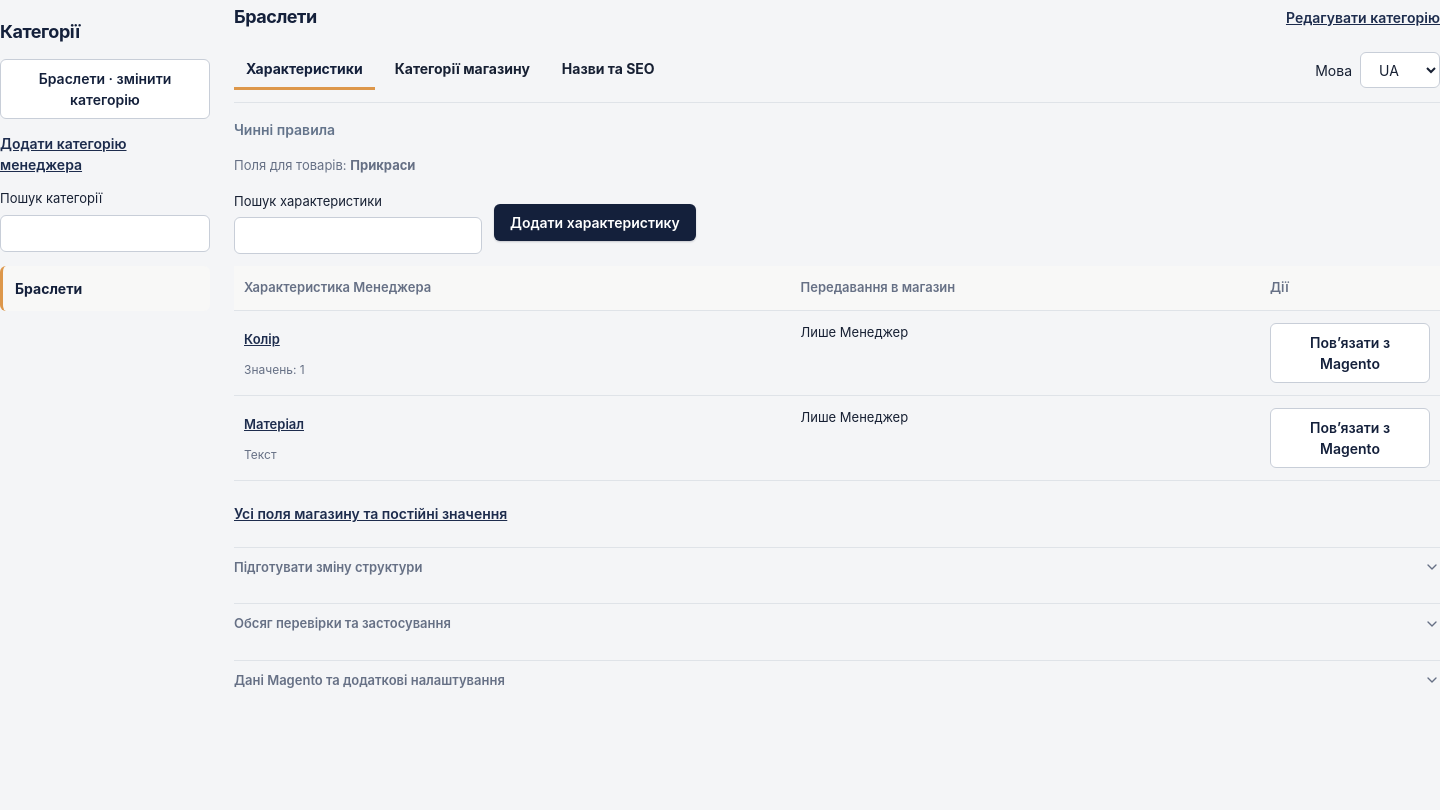
Scenario: shows direct links only for the selected language and opens that exact language rule
This screenshot has width=1440, height=810.
Expected: the button "Колір магазину" is not shown
Click the button "Пов’язати з Magento" in the row of "Значень: 1": click(1350, 352) top-left (1270, 322), bottom-right (1430, 382)
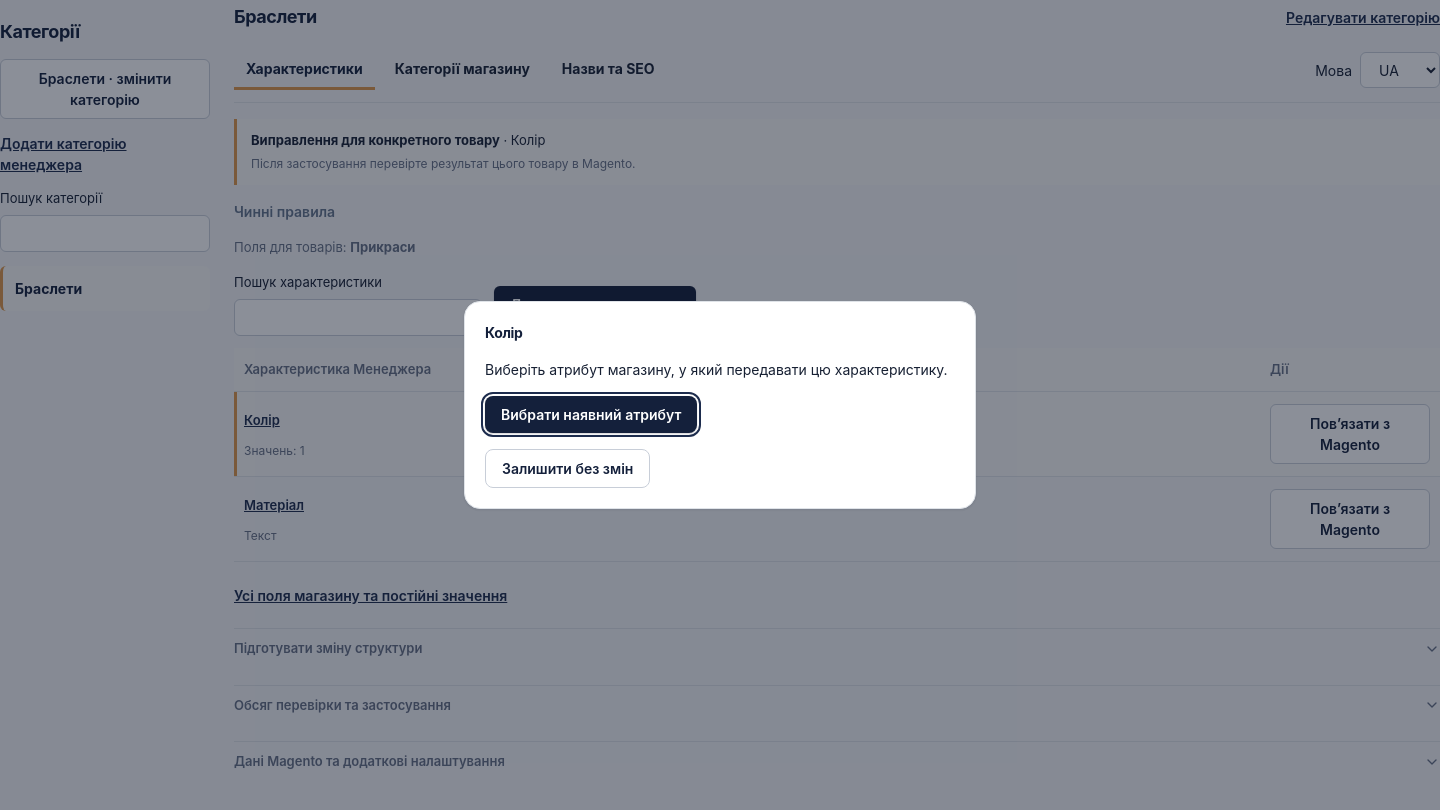
Click the button "Залишити без змін": click(568, 468) top-left (485, 449), bottom-right (650, 488)
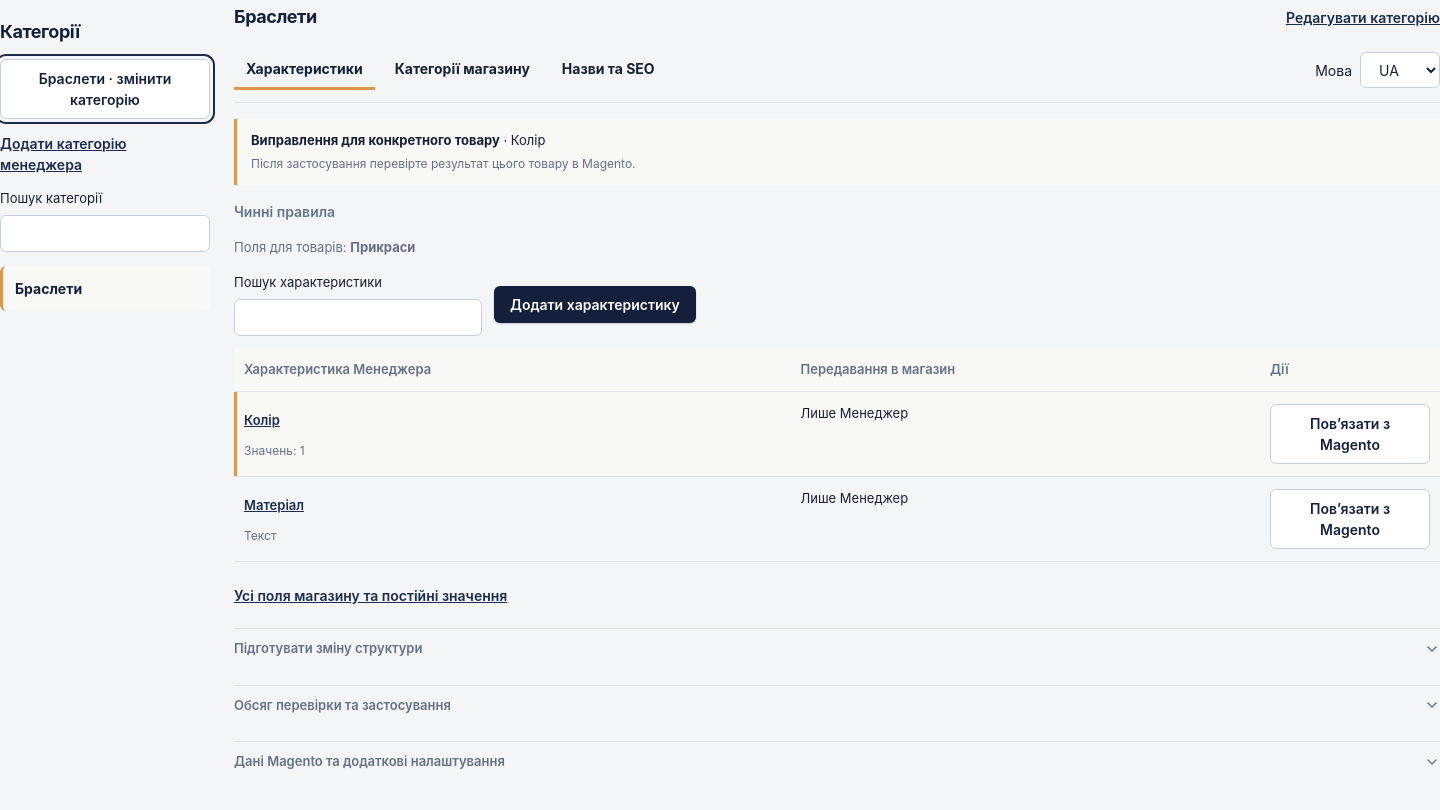
Select "EN" in the dropdown named "Мова полів": (1400, 70) top-left (1360, 52), bottom-right (1439, 88)
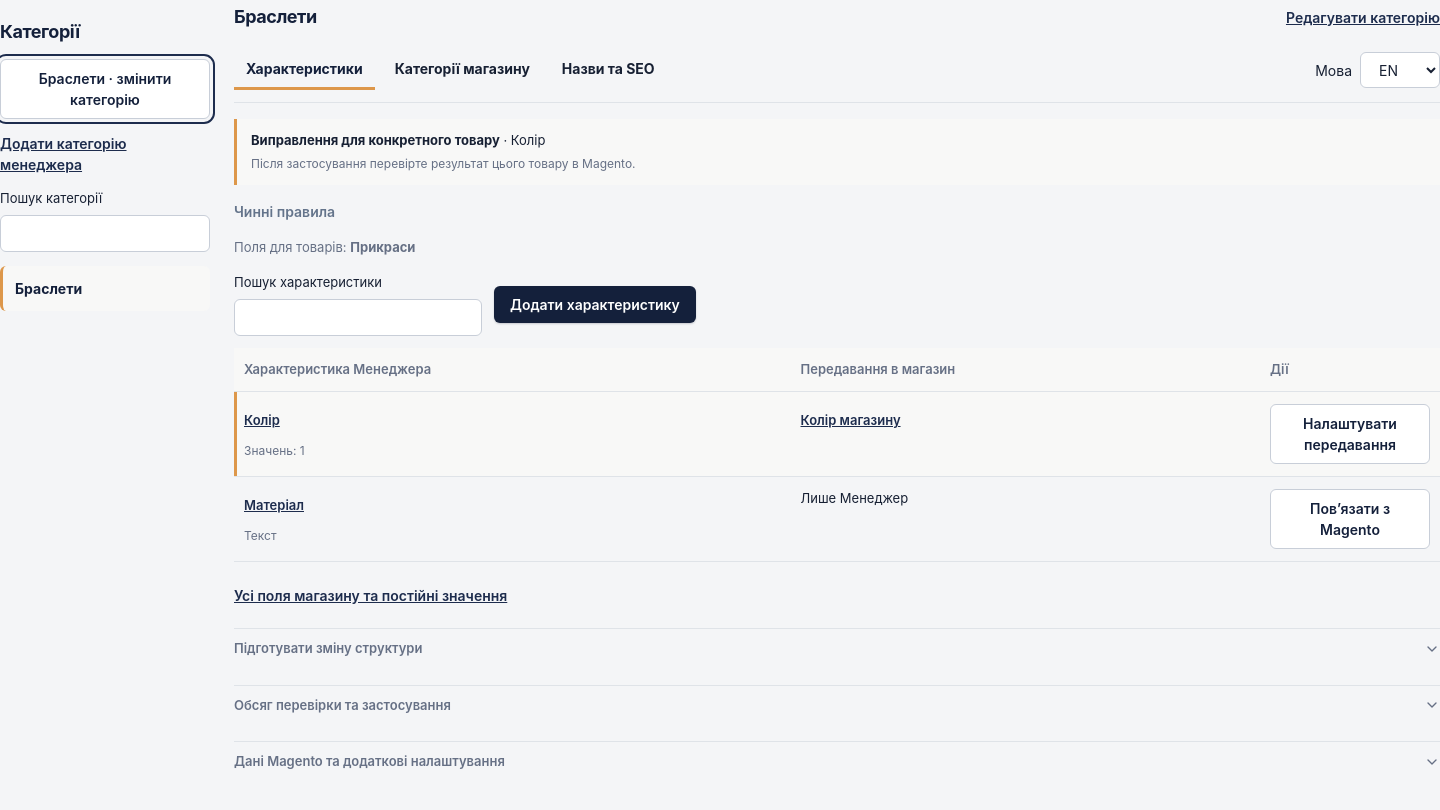
Expected: the button "Колір магазину" is enabled
Click the button "Колір магазину": click(850, 421) top-left (800, 404), bottom-right (900, 438)
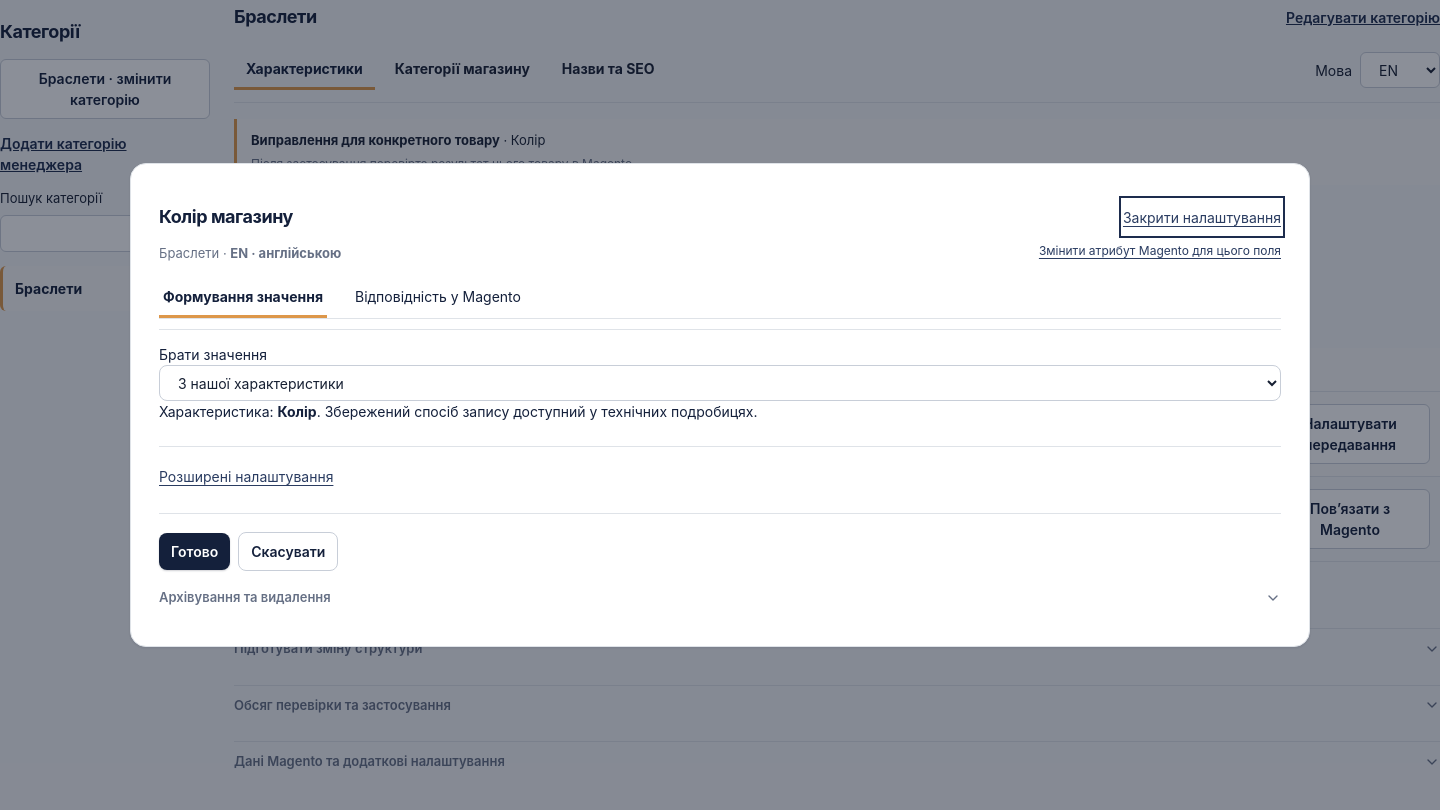
Expected: the dialog named "Поле Magento" shows "EN · англійською", top-left (230, 244), bottom-right (341, 260)
